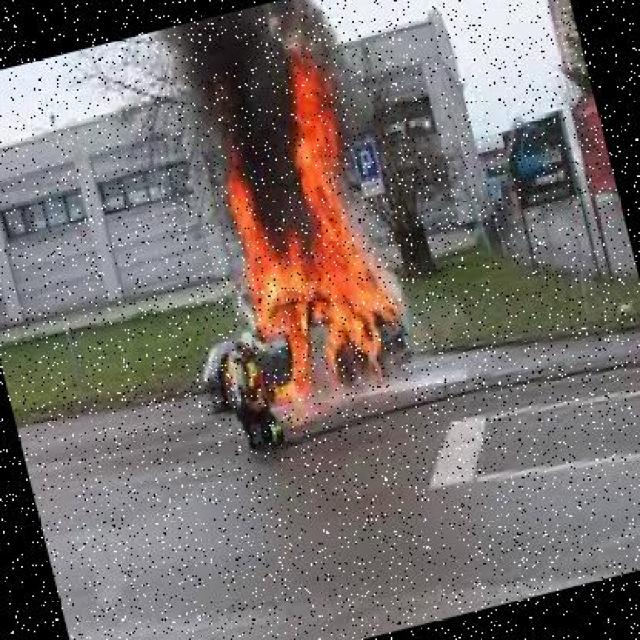fire: (157, 34, 420, 420)
